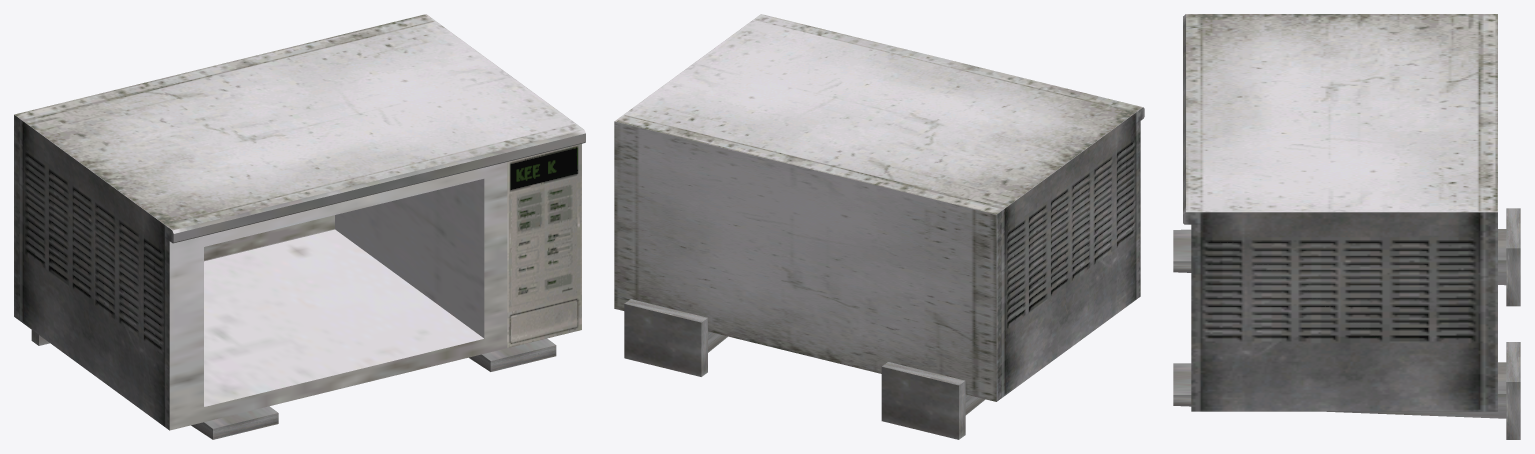
Rendered from estructura.obj.
The picture shows the model from 3 angles, left to right: view 1: azimuth 30°, elevation 25°; view 2: azimuth 150°, elevation 25°; view 3: azimuth 270°, elevation 25°; orthographic projection. The views are drawn at different scales.
Visible parts, largest first — view 1: polySurface18; view 2: polySurface18; view 3: polySurface18.
Boxes of the visible parts, x1,y1,x2,y2 form: polySurface18: (14, 14, 585, 439); polySurface18: (614, 14, 1144, 439); polySurface18: (1173, 14, 1520, 439).
Bounding box in the file's own units: 0.8913 × 0.4995 × 0.6595.
5 materials, 5 textured.
